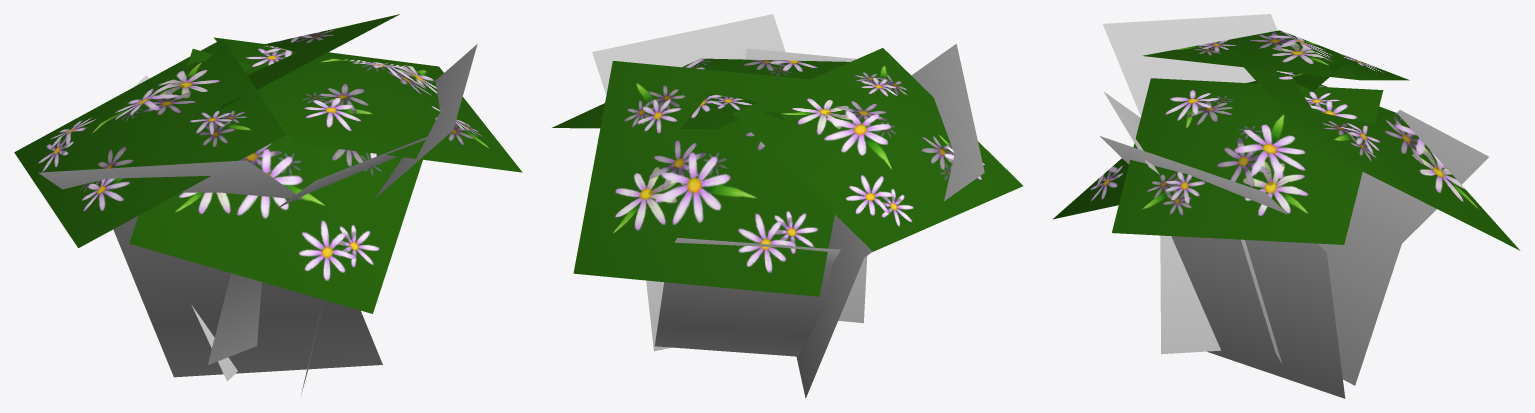
File: Flower_002.fbx
3 renders of one model, left to right at view 1: azimuth 30°, elevation 25°; view 2: azimuth 150°, elevation 25°; view 3: azimuth 270°, elevation 25°, orthographic. The views are drawn at different scales.
Visible parts, largest first — view 1: polySurface1; view 2: polySurface1; view 3: polySurface1.
Part boxes in pixels (box(x1,y1,x2,y2)): polySurface1: box(14, 14, 522, 394); polySurface1: box(552, 14, 1022, 398); polySurface1: box(1053, 14, 1520, 398).
Bounding box in the file's own units: 660 × 452 × 642.
